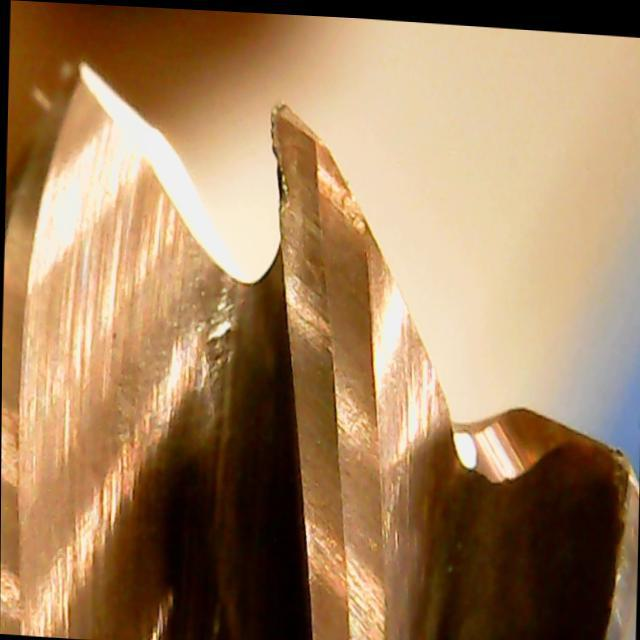Tool-wear-class-1: (259, 89, 385, 383)
